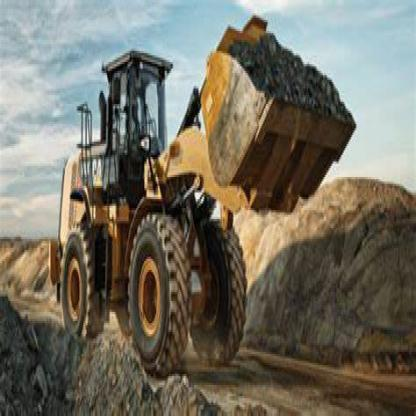bull_dozer/loader/grader: (45, 11, 355, 383)
